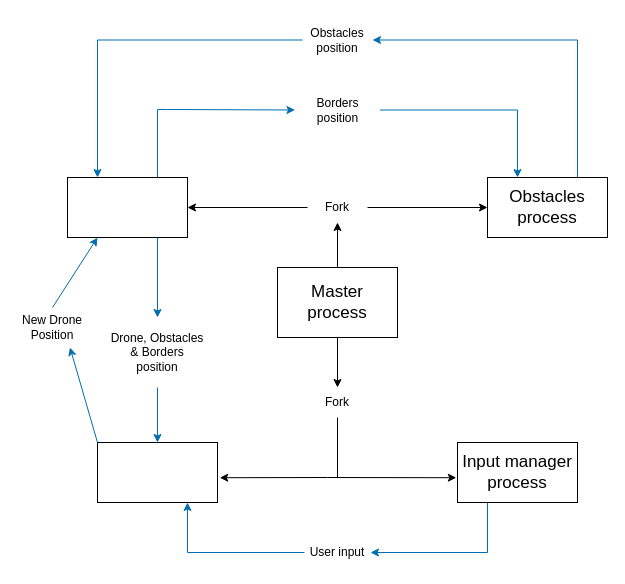
This 625x584 diagram has some shape labels left out. Each missing label, with the centre of its shape:
"Blackboard process" belongs at [127,207].
"Drone process" belongs at [157,472].
